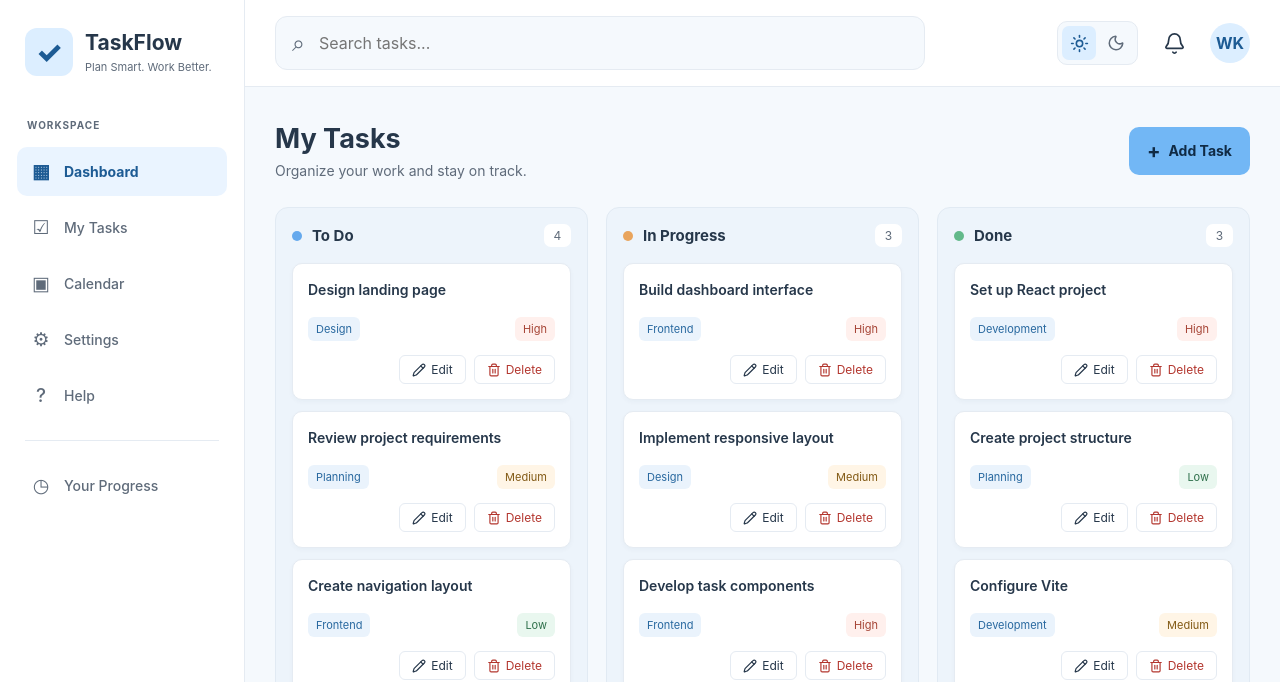
Test: dashboard task statistics › preserves a task after delete failure and removes it on retry
Click the button with aria-label "Delete Design landing page" at (514, 370), box [474,355,555,384]
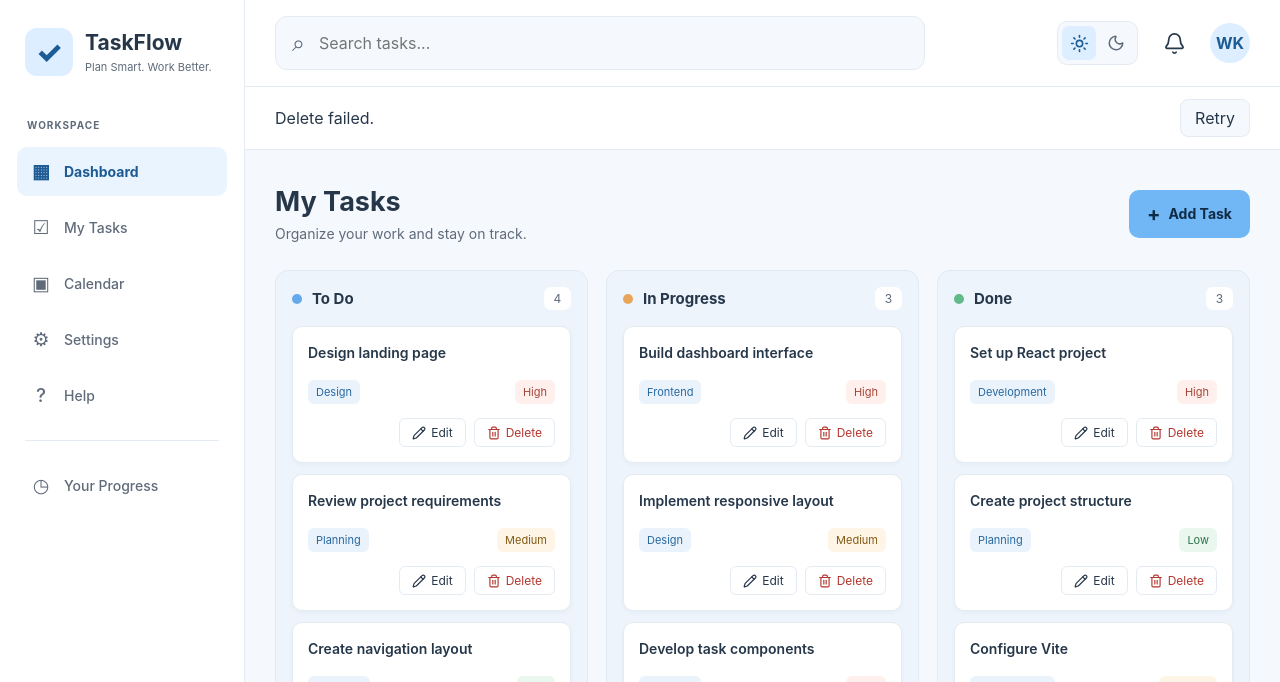
Expected: the element named "Design landing page, To Do" is shown, [292,326,571,463]
Expected: the message shows "Delete failed.", [275,108,374,128]
Click the button "Retry" at (1215, 118), box [1180,99,1250,137]
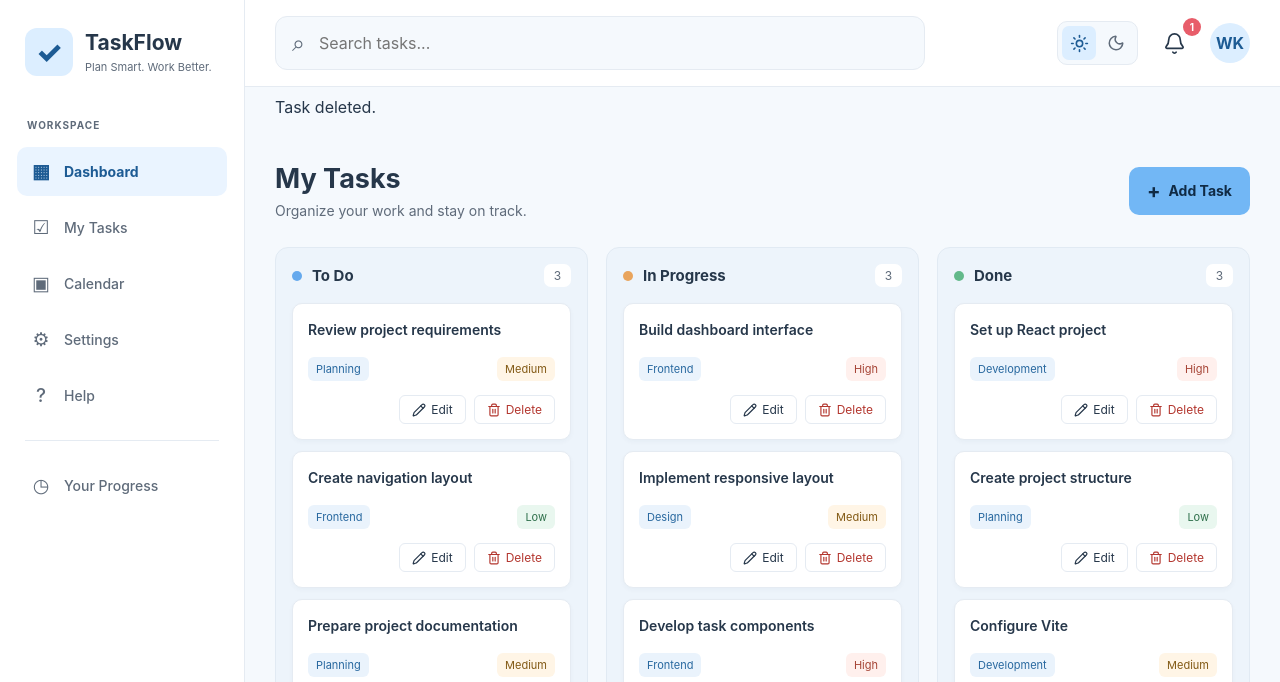
Expected: the text "Task deleted." is shown, [275,97,376,117]
